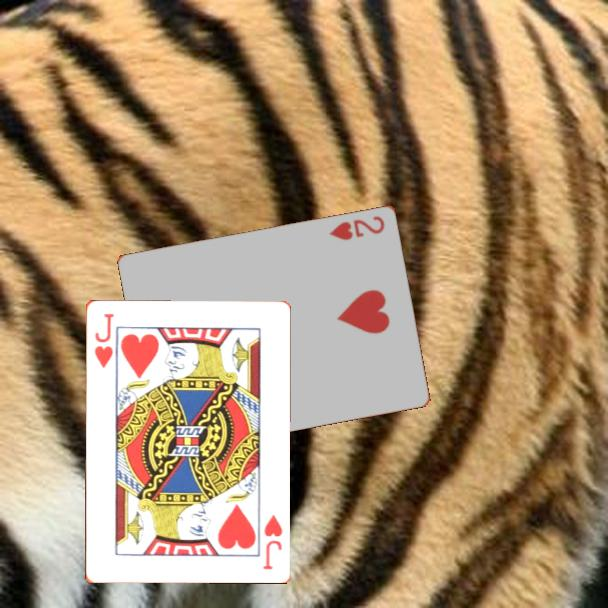h02: (326, 212, 388, 243)
h11: (259, 511, 285, 572), (91, 310, 116, 370)
